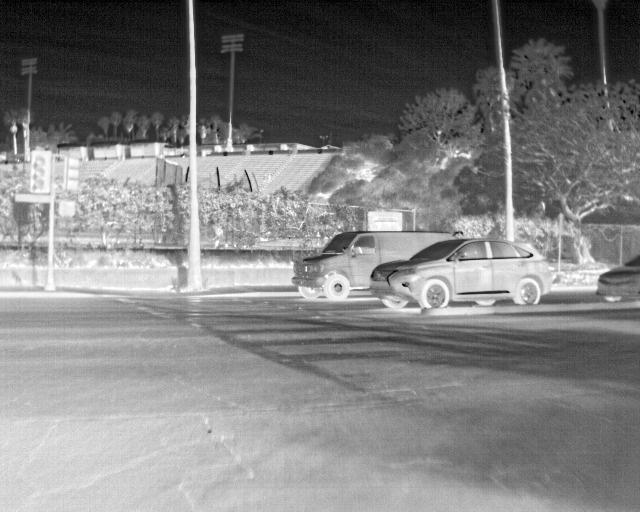car: (370, 236, 554, 314), (291, 230, 370, 303), (598, 253, 639, 309)
